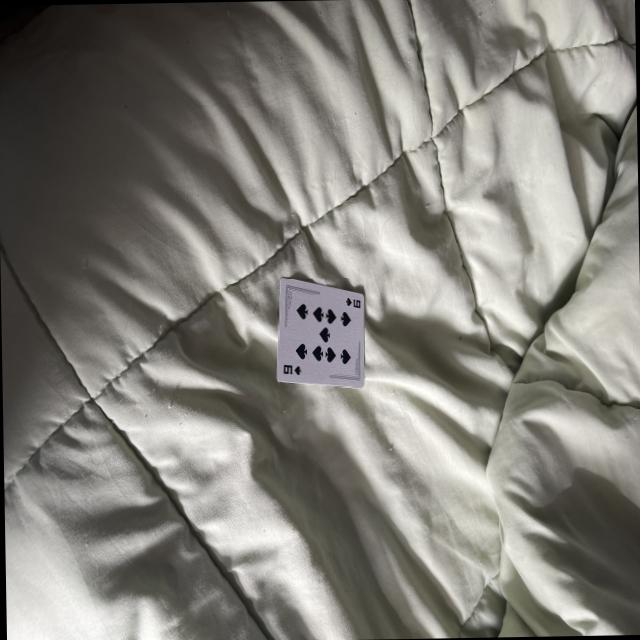9 of spades: (278, 279, 362, 386)
